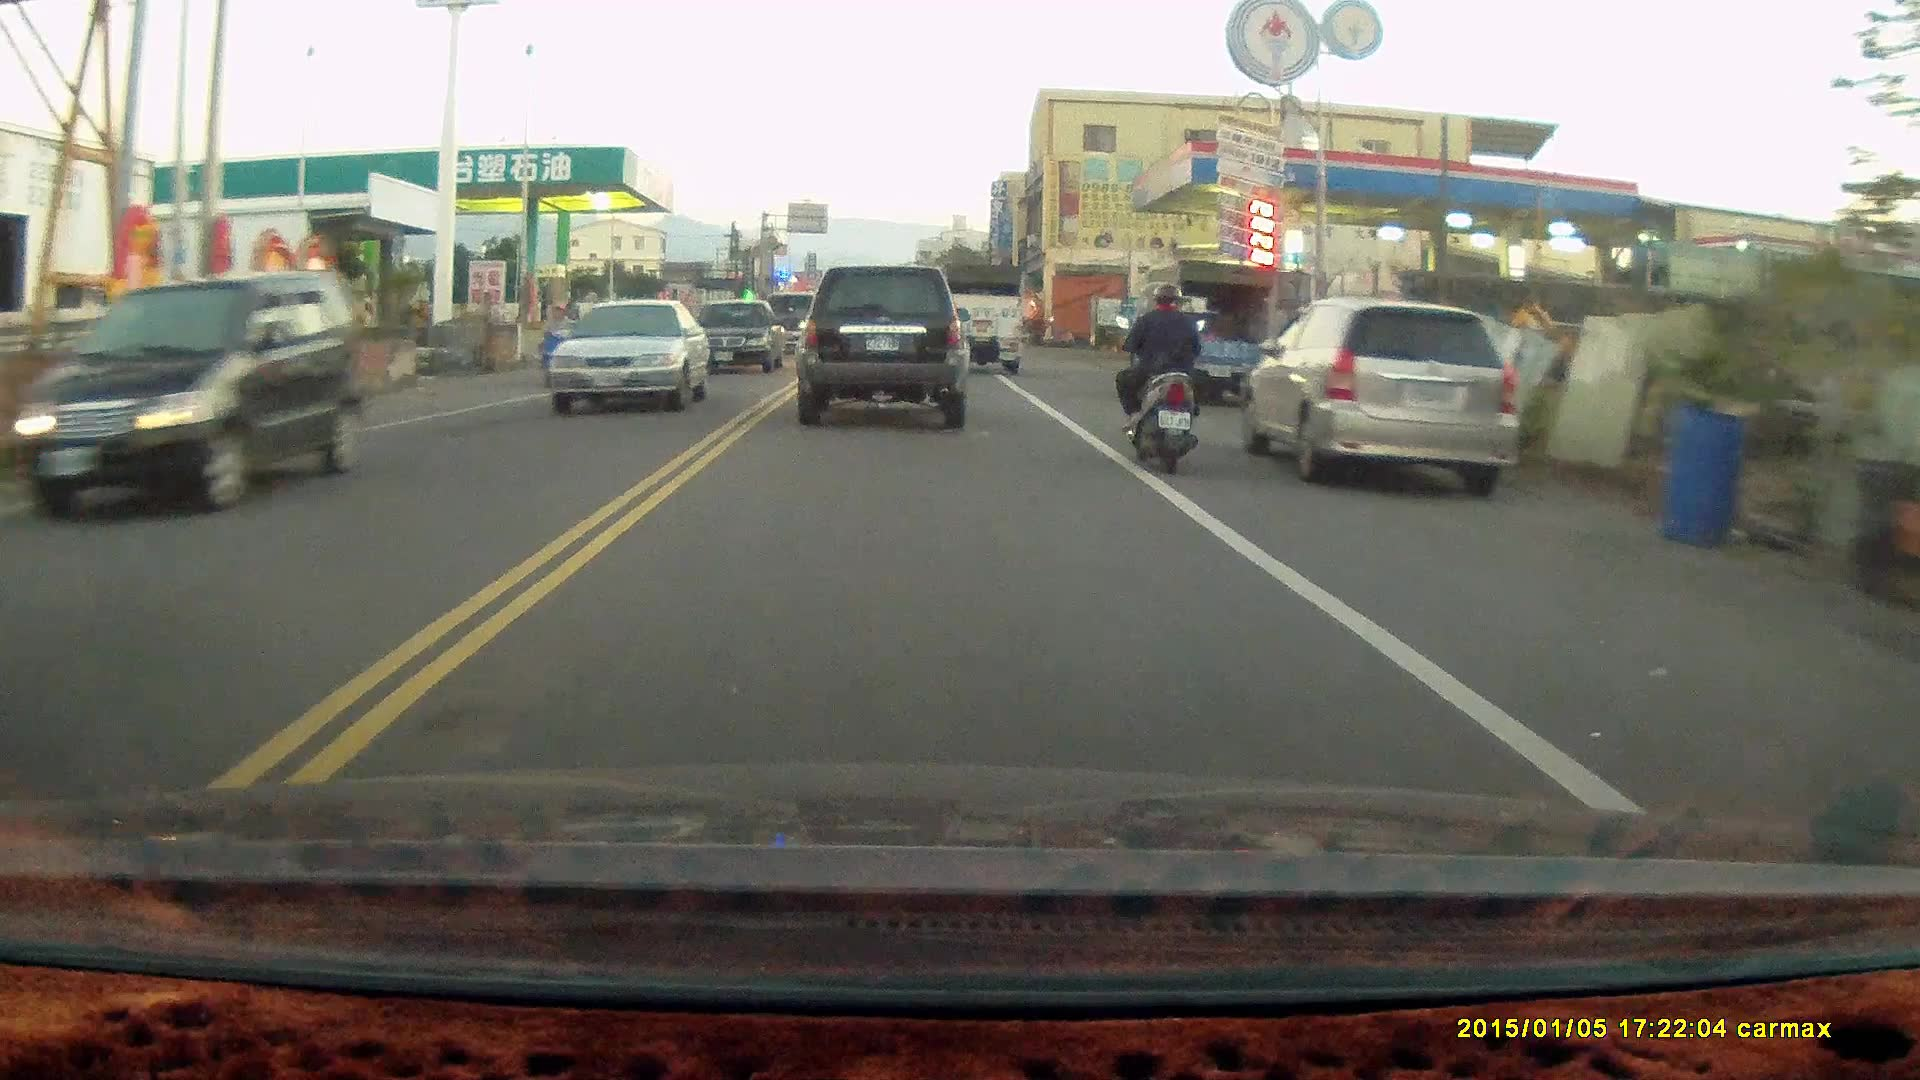rider: (1110, 281, 1207, 471)
vehicle: (8, 273, 362, 523), (1248, 296, 1518, 499), (795, 265, 972, 428), (1124, 257, 1274, 400), (543, 297, 713, 415), (938, 259, 1023, 375), (693, 297, 786, 372)
